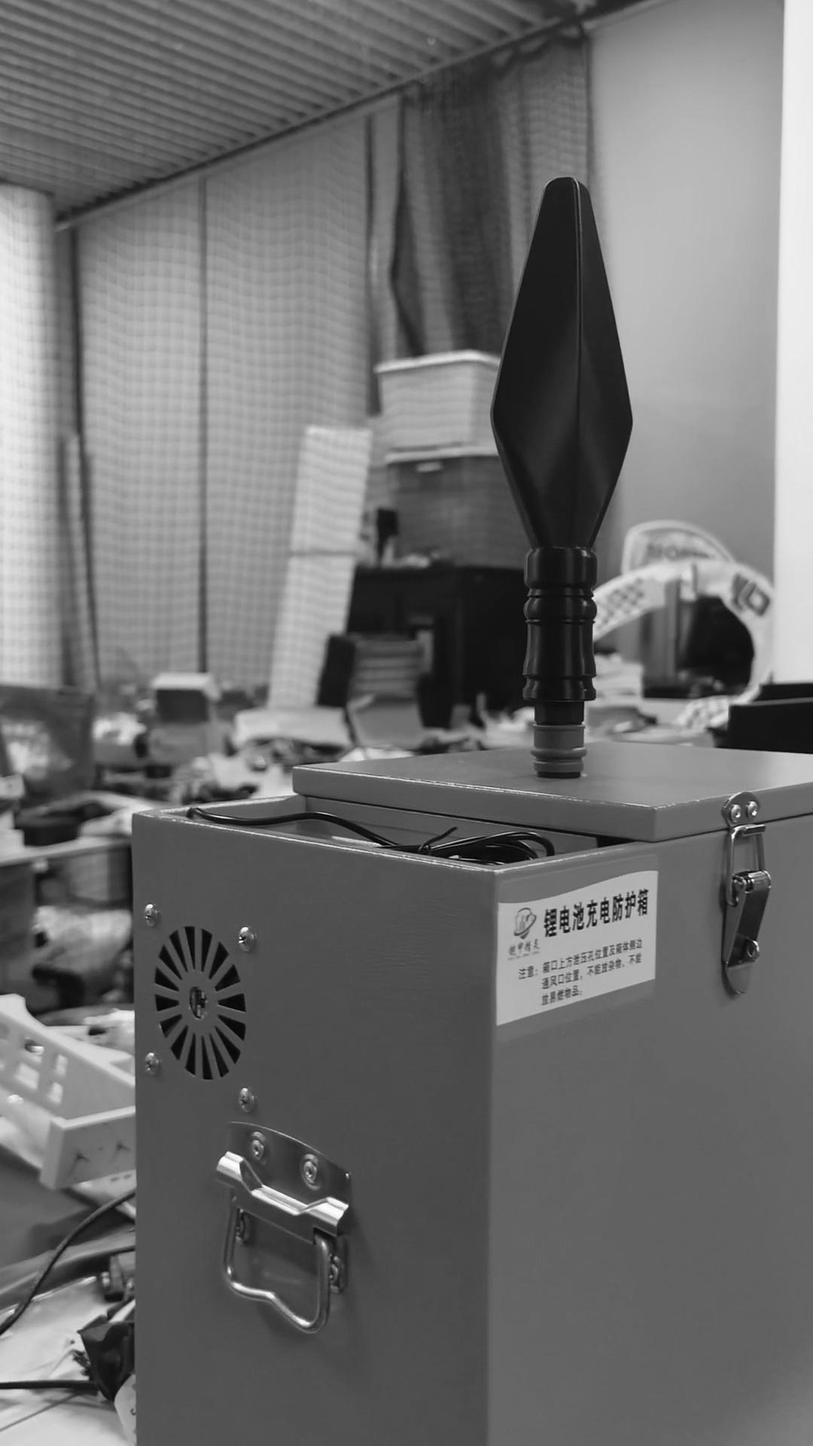base: (530, 718, 584, 781)
